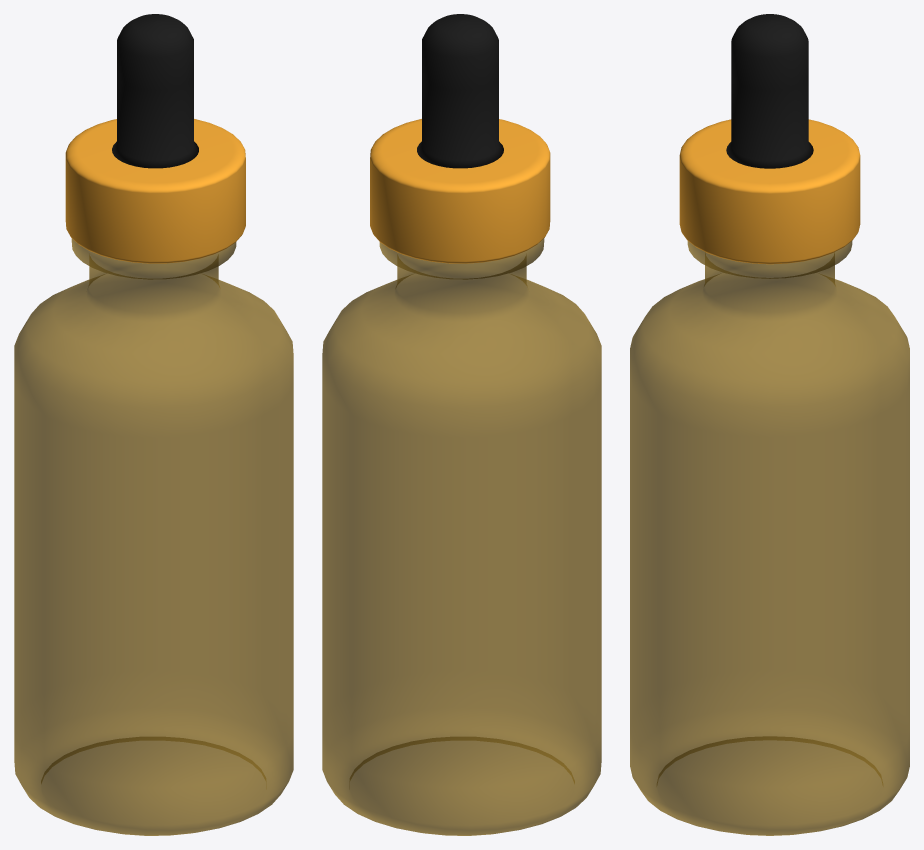
Rendered from SerumBottle14.gltf.
The picture shows the model from 3 angles, left to right: view 1: azimuth 30°, elevation 25°; view 2: azimuth 150°, elevation 25°; view 3: azimuth 270°, elevation 25°; orthographic projection.
Parts seen in each view (by area): view 1: Cylinder, Cylinder.001, Cylinder.002; view 2: Cylinder, Cylinder.001, Cylinder.002; view 3: Cylinder, Cylinder.001, Cylinder.002.
Part boxes in pixels (x1=…): Cylinder: x1=14, y1=238, x2=293, y2=835; Cylinder.001: x1=65, y1=119, x2=245, y2=263; Cylinder.002: x1=112, y1=14, x2=198, y2=168; Cylinder: x1=322, y1=238, x2=601, y2=835; Cylinder.001: x1=370, y1=119, x2=550, y2=263; Cylinder.002: x1=417, y1=14, x2=503, y2=168; Cylinder: x1=630, y1=241, x2=909, y2=835; Cylinder.001: x1=679, y1=119, x2=860, y2=264; Cylinder.002: x1=726, y1=14, x2=813, y2=168.
Bounding box in the file's own units: 1.99 × 6.02 × 1.99.
